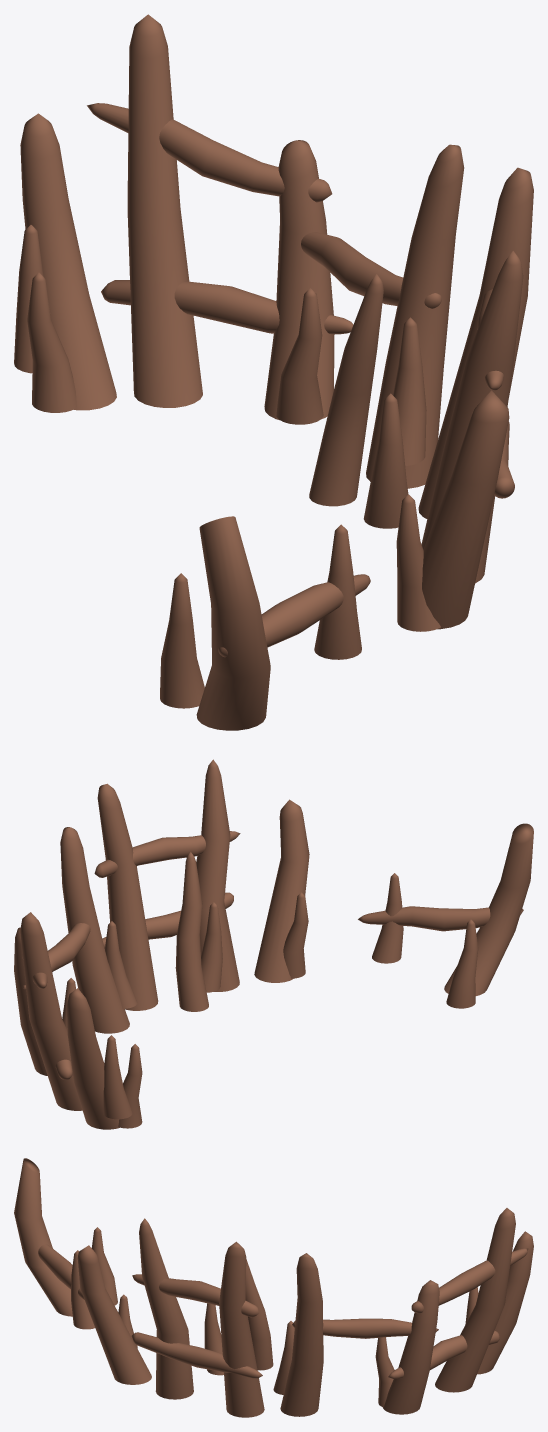
Rendered from mdl_camp.fbx.
3 views of the same model, one above another, from view 1: azimuth 30°, elevation 25°; view 2: azimuth 150°, elevation 25°; view 3: azimuth 270°, elevation 25° (orthographic). The views are drawn at different scales.
Visible parts, largest first — view 1: mdl_Camp; view 2: mdl_Camp; view 3: mdl_Camp.
Part boxes in pixels (x1=…): mdl_Camp: x1=14, y1=14, x2=533, y2=730; mdl_Camp: x1=14, y1=759, x2=533, y2=1129; mdl_Camp: x1=14, y1=1158, x2=533, y2=1417.
Bounding box in the file's own units: 5.51 × 3.43 × 8.77.
